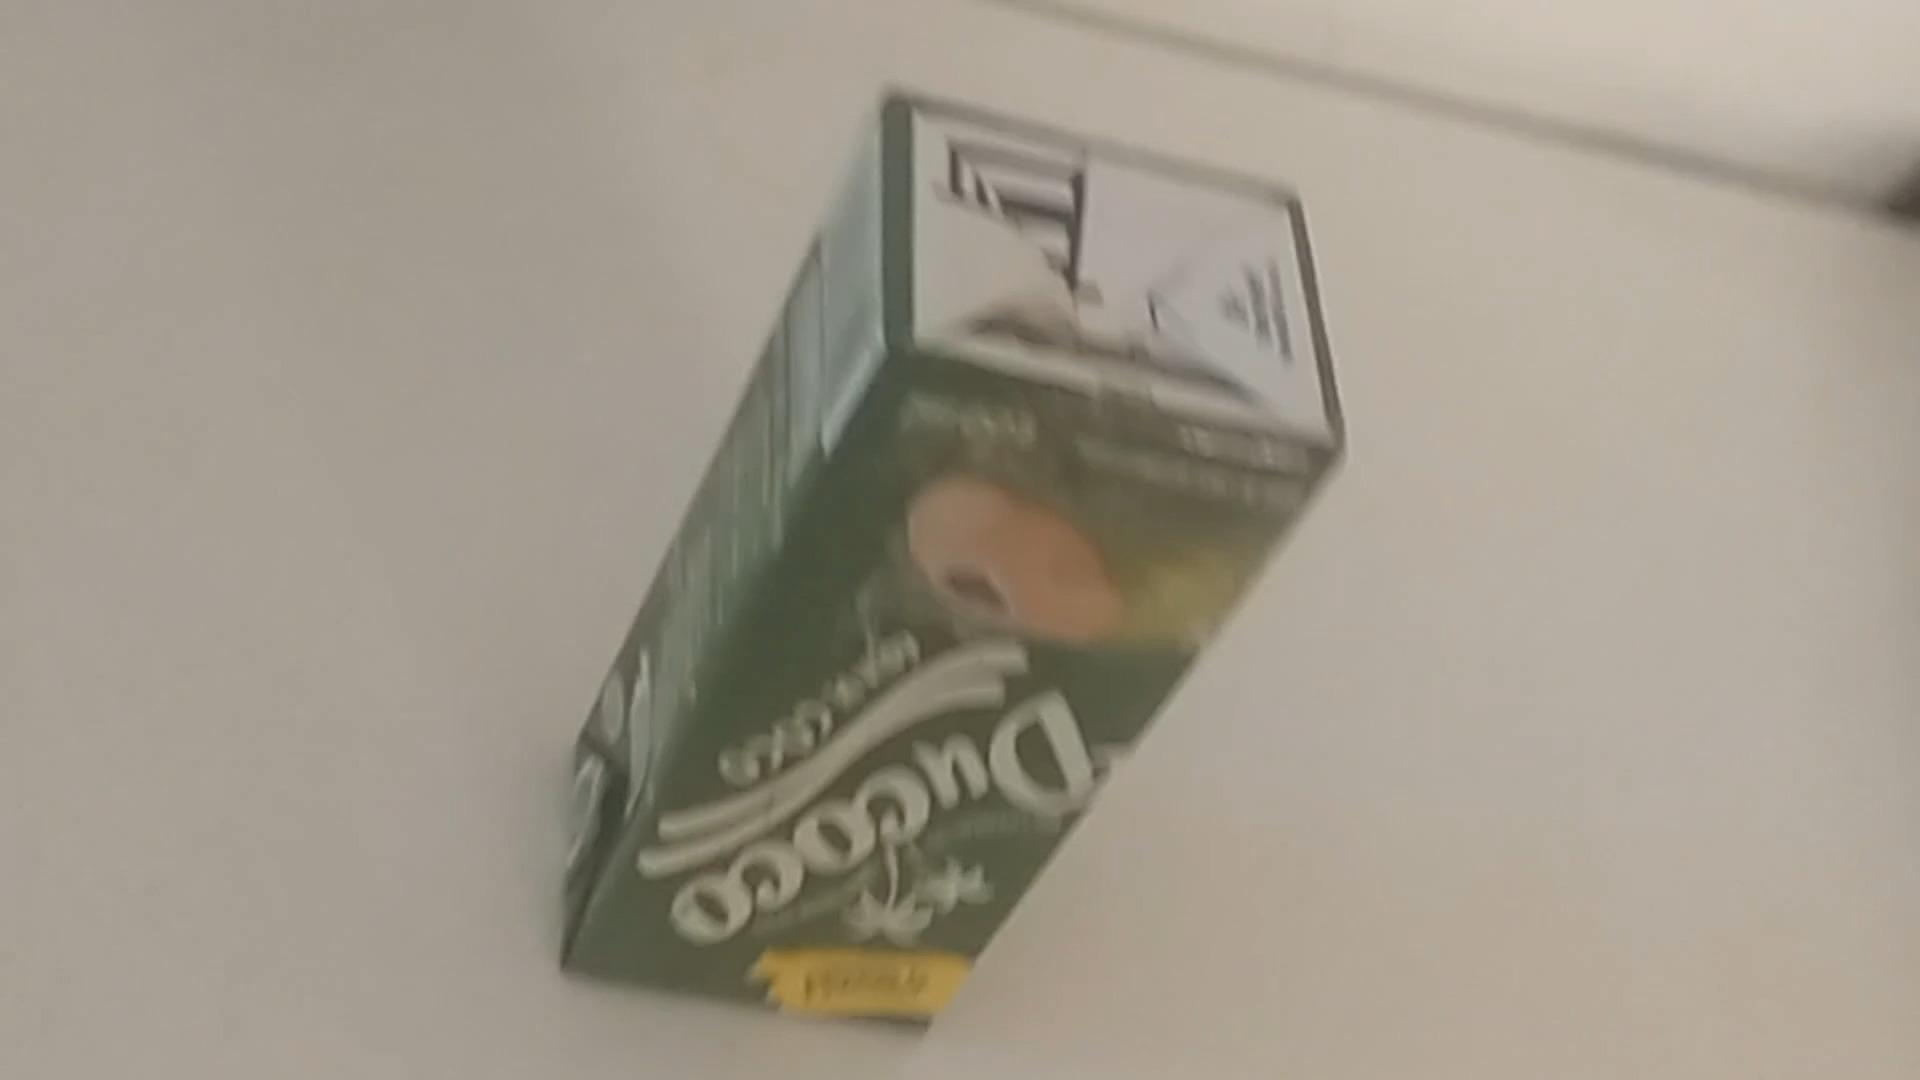coco: (553, 87, 1341, 1039)
